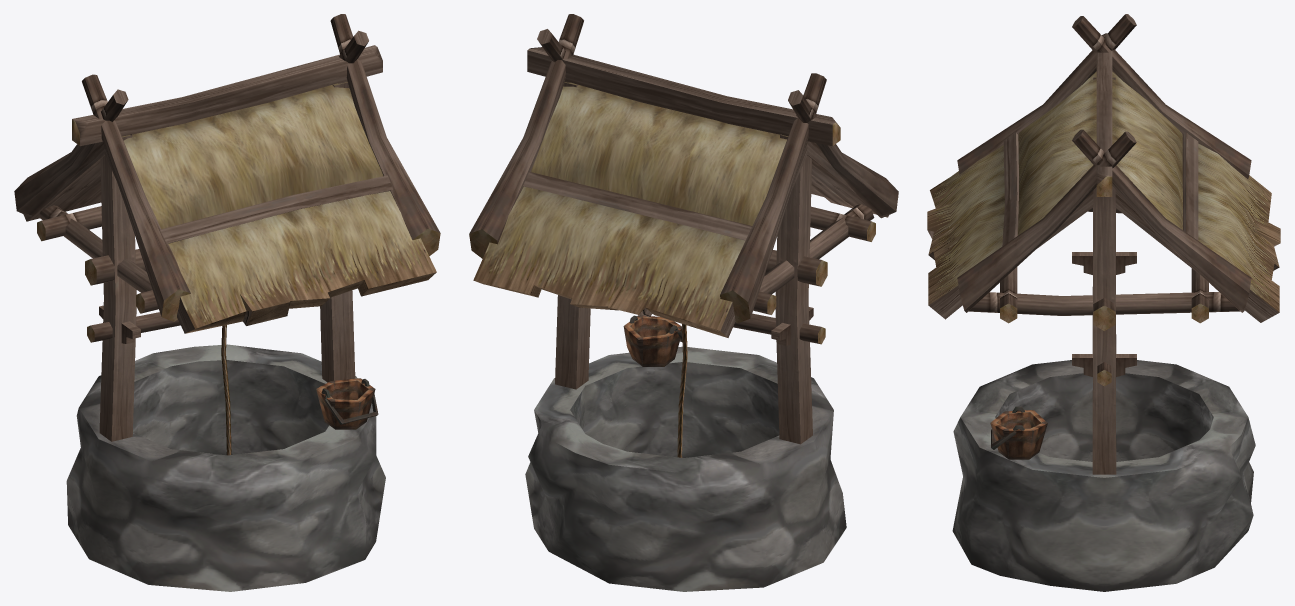
The model's file is handan_field_b_r02.fbx.
The picture shows the model from 3 angles, left to right: view 1: azimuth 30°, elevation 25°; view 2: azimuth 150°, elevation 25°; view 3: azimuth 270°, elevation 25°; orthographic projection. The views are drawn at different scales.
Visible parts, largest first — view 1: handan_field_b_r02; view 2: handan_field_b_r02; view 3: handan_field_b_r02.
Part boxes in pixels (x1,y1,x2,y2): handan_field_b_r02: [14, 14, 440, 591]; handan_field_b_r02: [469, 14, 898, 591]; handan_field_b_r02: [927, 14, 1280, 591].
Bounding box in the file's own units: 341 × 510 × 356.
